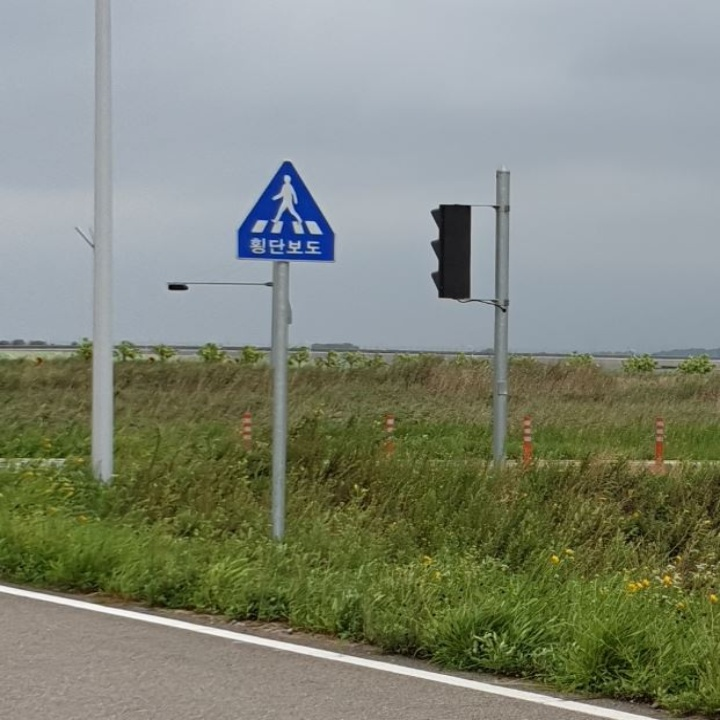cross: (264, 170, 309, 231)
